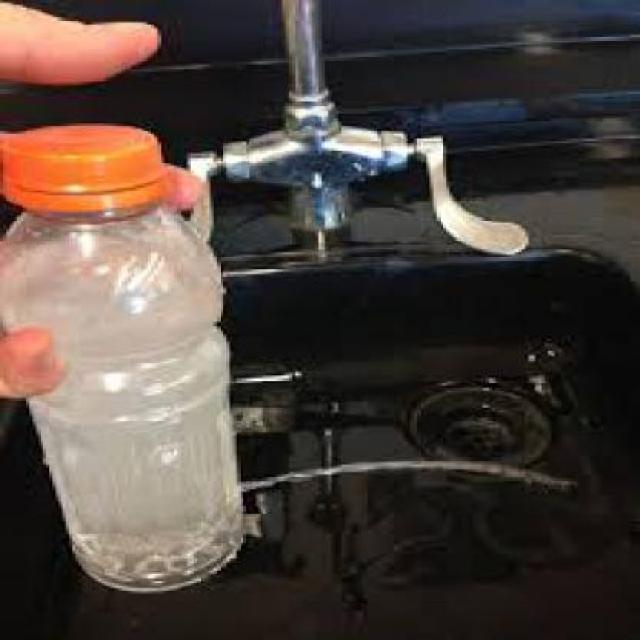Drinking: (0, 123, 257, 594)
